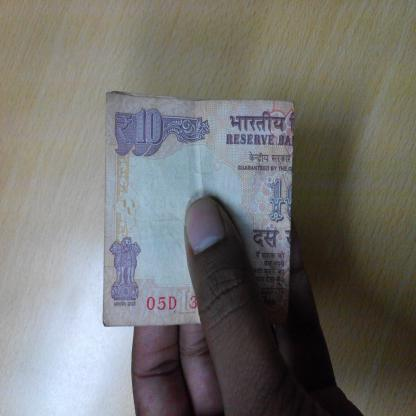Old10Front: (101, 89, 297, 328)
